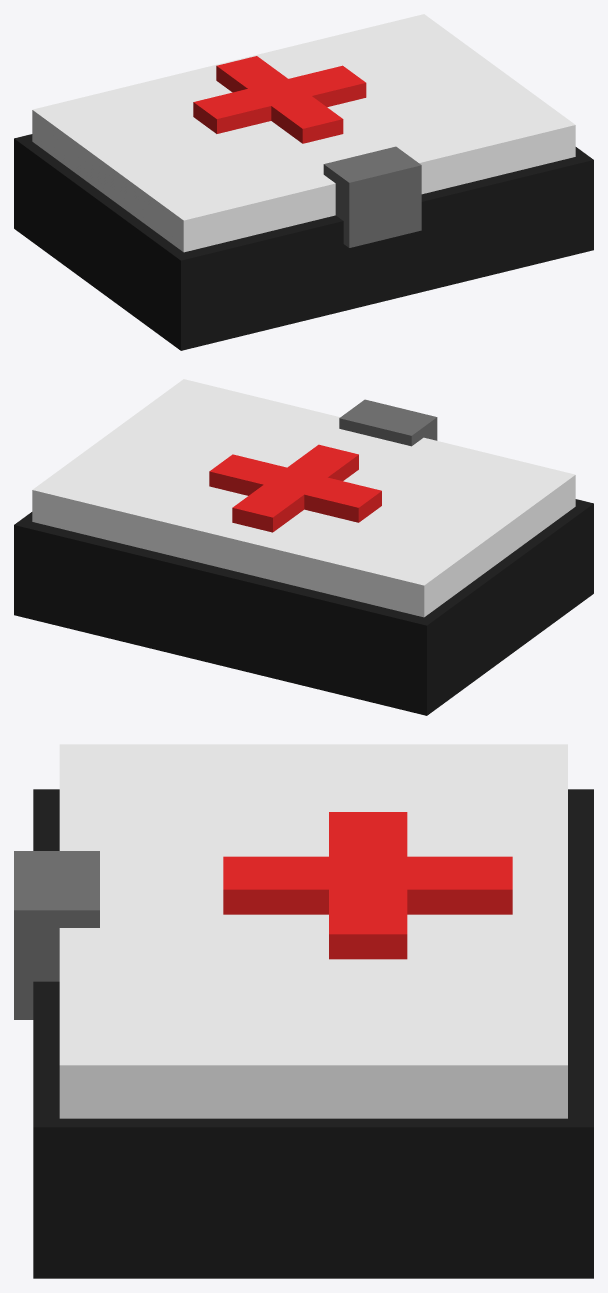
File: medkit.fbx
3 renders of one model, top to bottom at view 1: azimuth 30°, elevation 25°; view 2: azimuth 150°, elevation 25°; view 3: azimuth 270°, elevation 25°, orthographic. The views are drawn at different scales.
Parts seen in each view (by area): view 1: medkit; view 2: medkit; view 3: medkit.
Boxes of the visible parts, x1,y1,x2,y2 form: medkit: (14,14,593,350); medkit: (14,379,593,715); medkit: (14,744,593,1278).
Size of the model in its own units: 2.29 by 0.7272 by 1.66.
